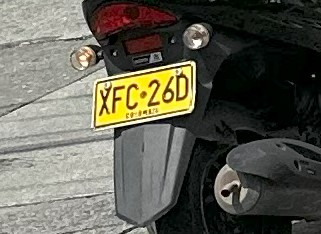number plate: (92, 61, 195, 129)
